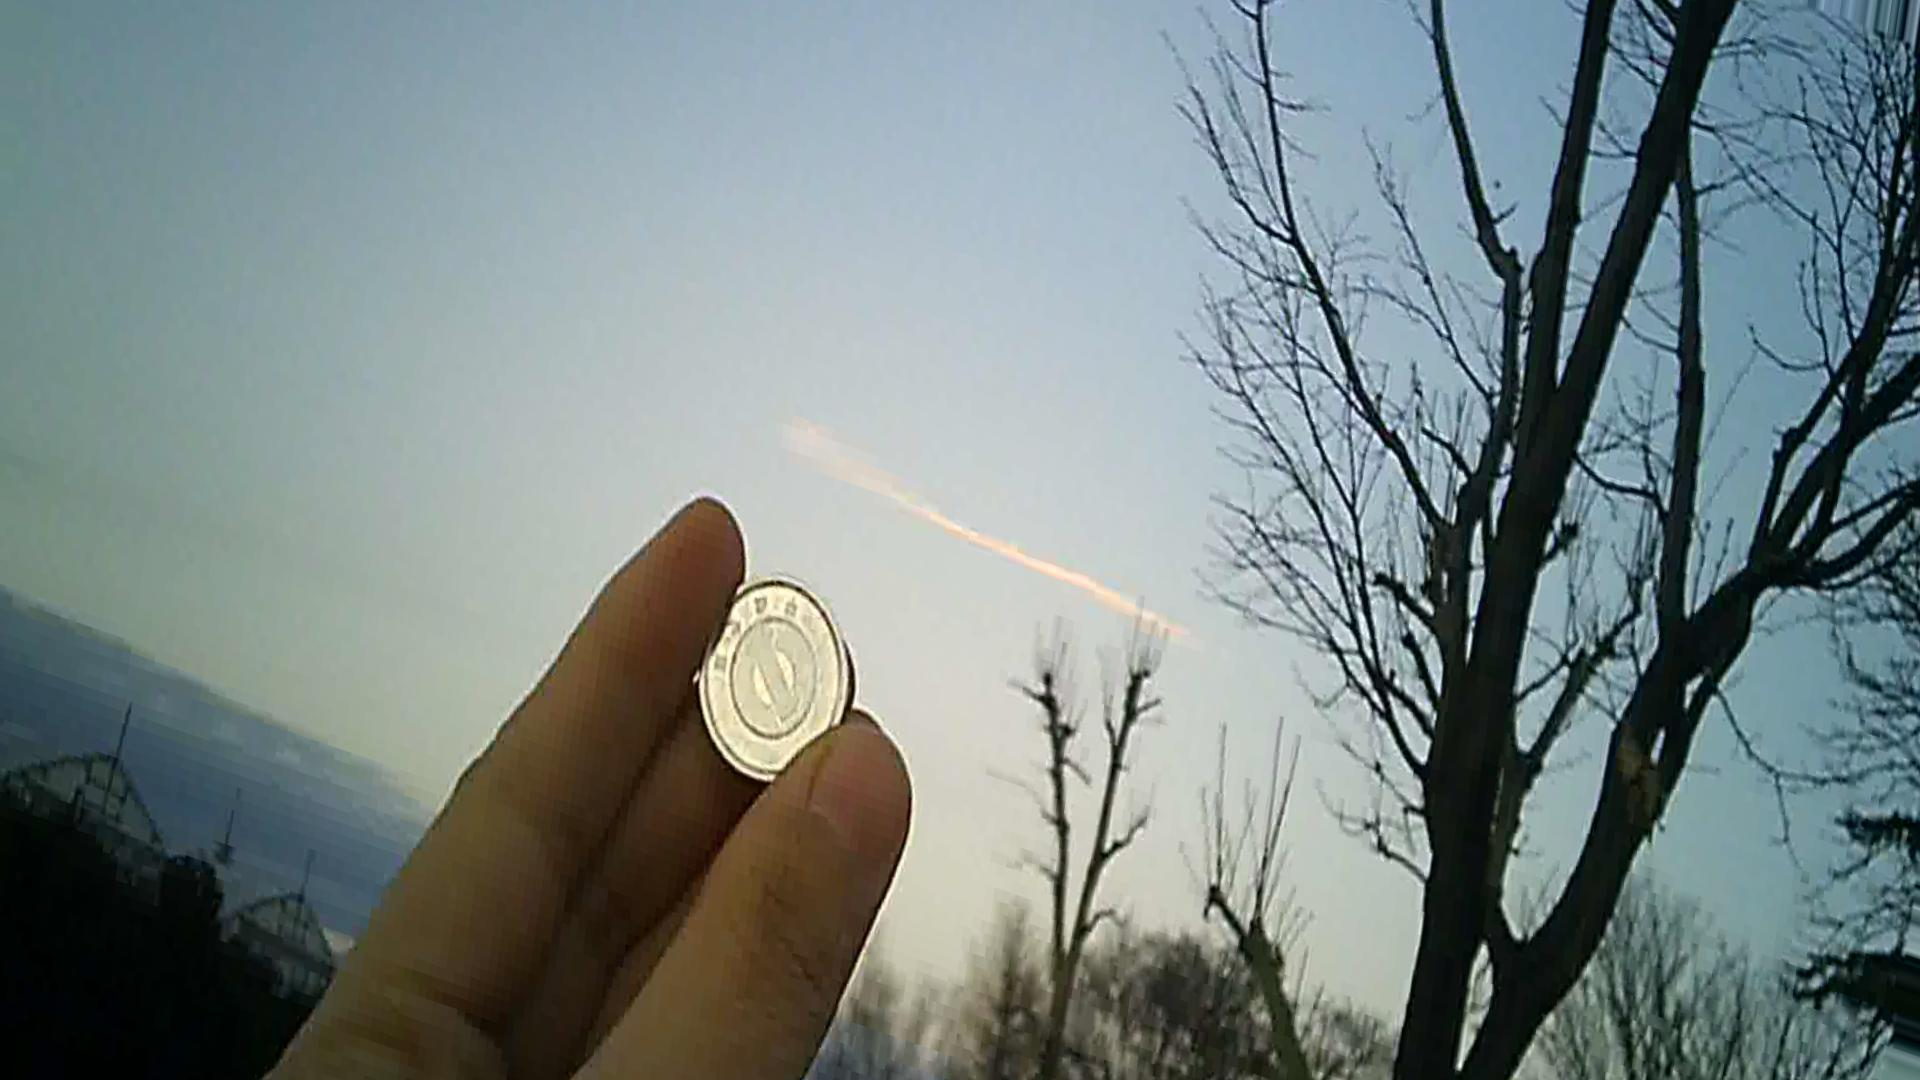1 Yen: (694, 568, 861, 807)
